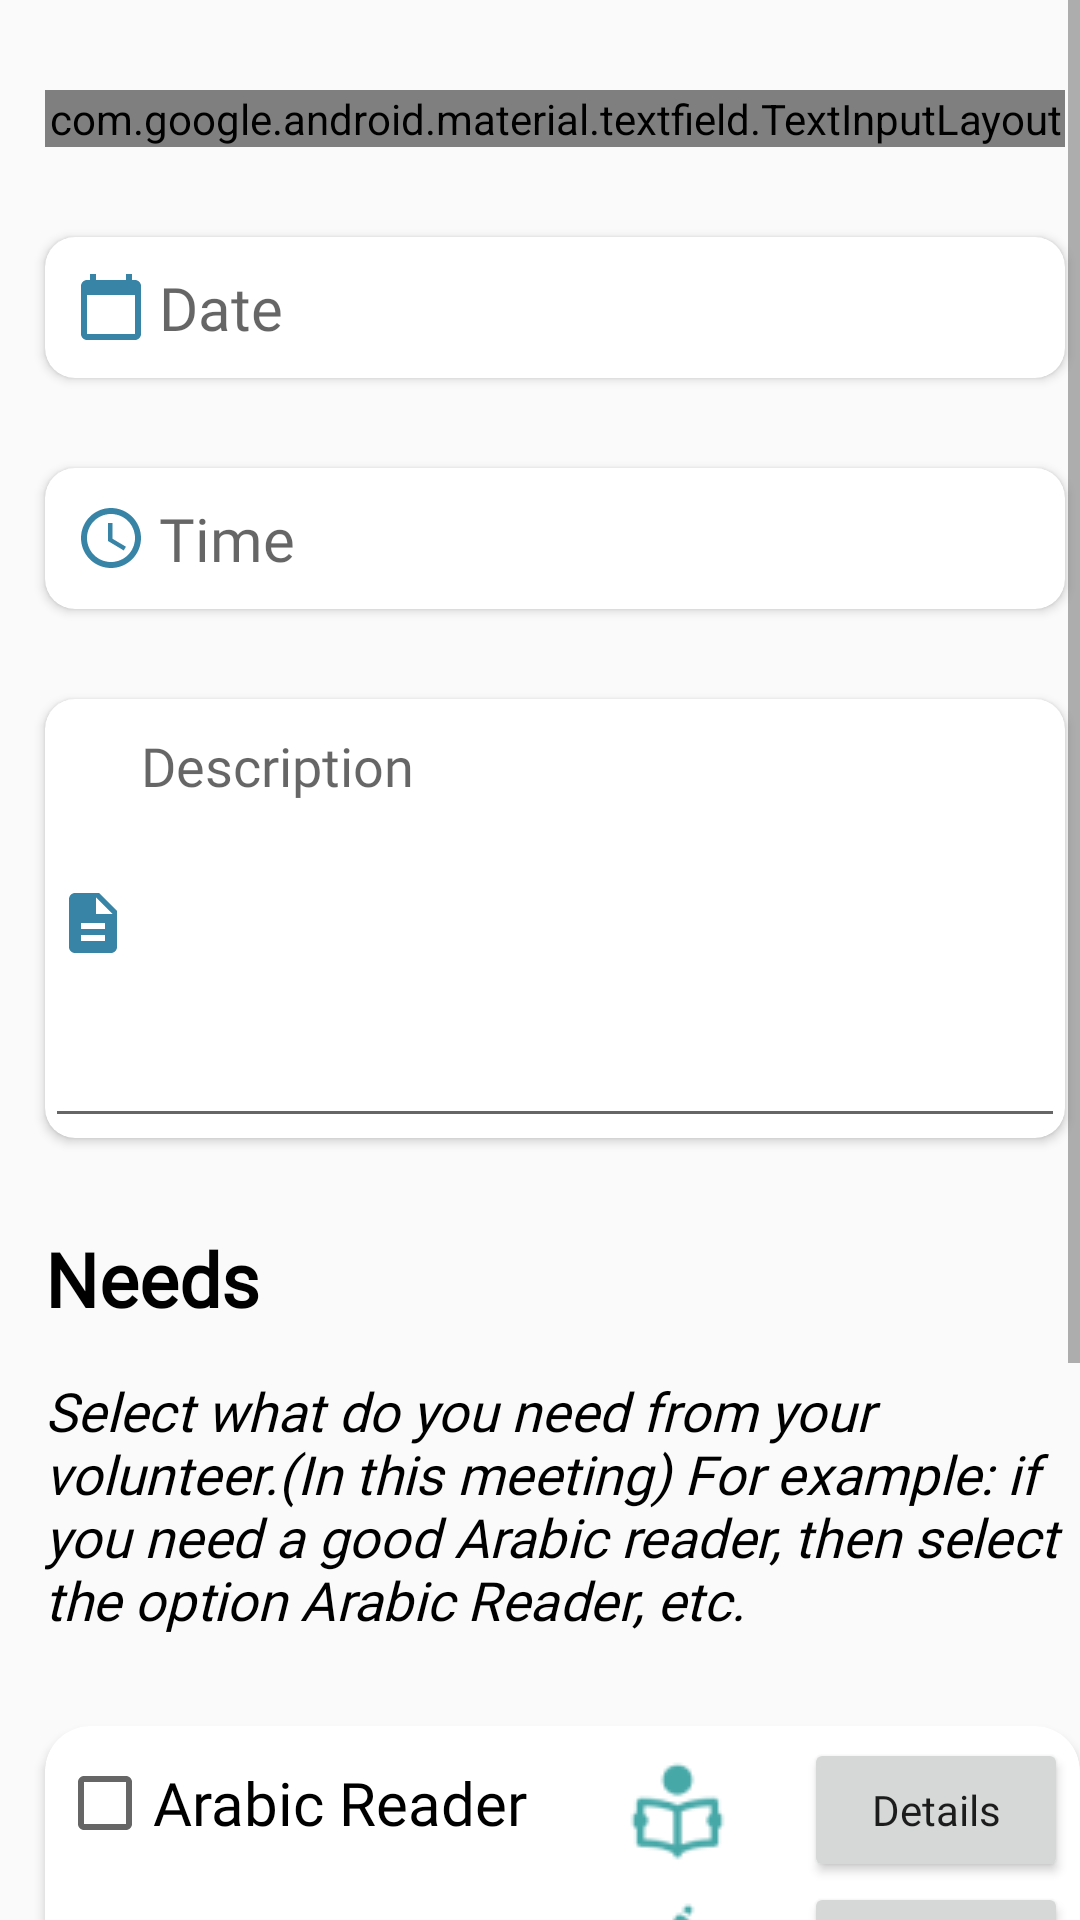

Point at icon controls on the screen. Image size 1080x1920, points as point (x, y).
reading: point (677, 1811)
